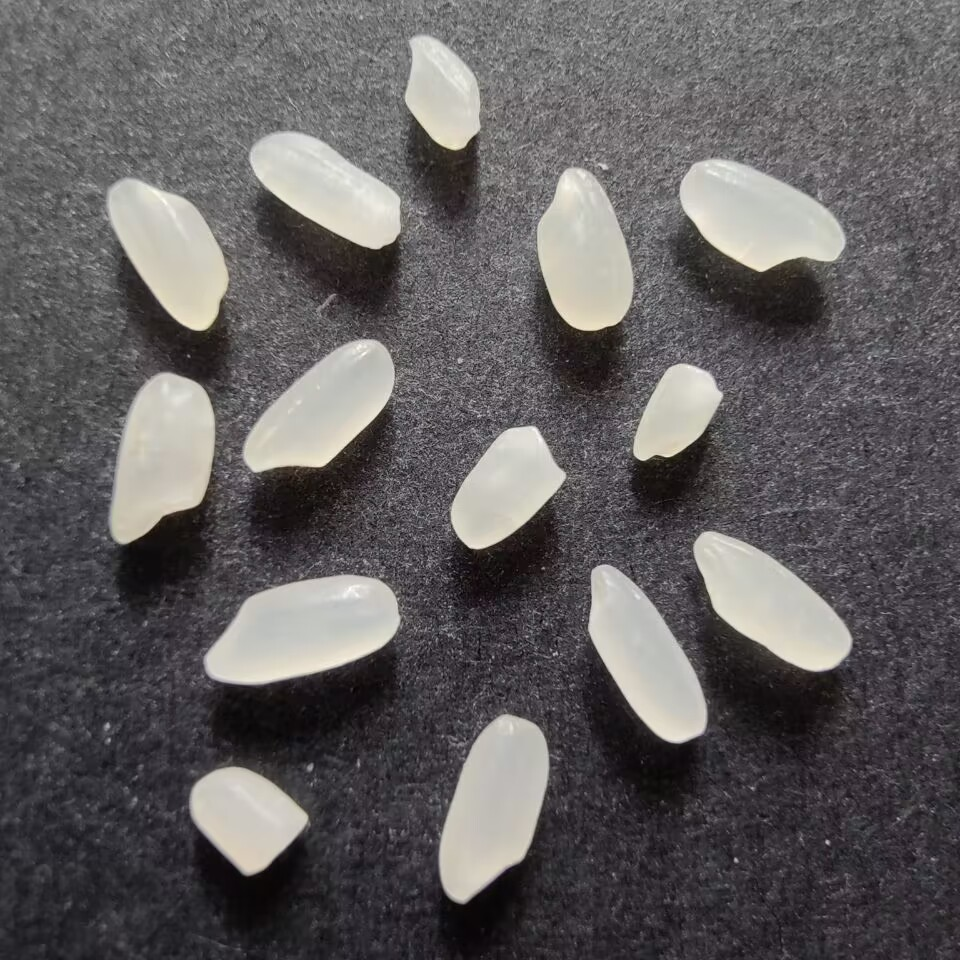broken: (449, 420, 572, 551), (185, 766, 311, 882), (398, 33, 486, 156), (629, 361, 730, 464)
rice: (691, 526, 853, 676), (197, 570, 404, 687), (586, 559, 714, 746), (241, 335, 403, 477), (437, 711, 551, 908), (104, 365, 219, 550), (102, 175, 233, 334), (678, 156, 853, 275), (244, 127, 404, 252), (532, 164, 636, 335)
